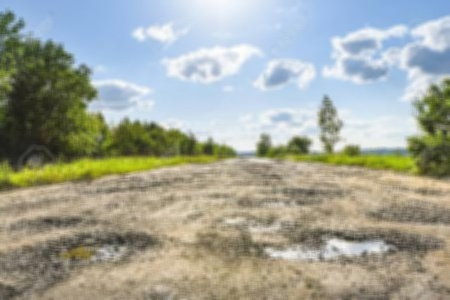pothole: (249, 226, 424, 262), (28, 228, 151, 269), (29, 212, 85, 231)
